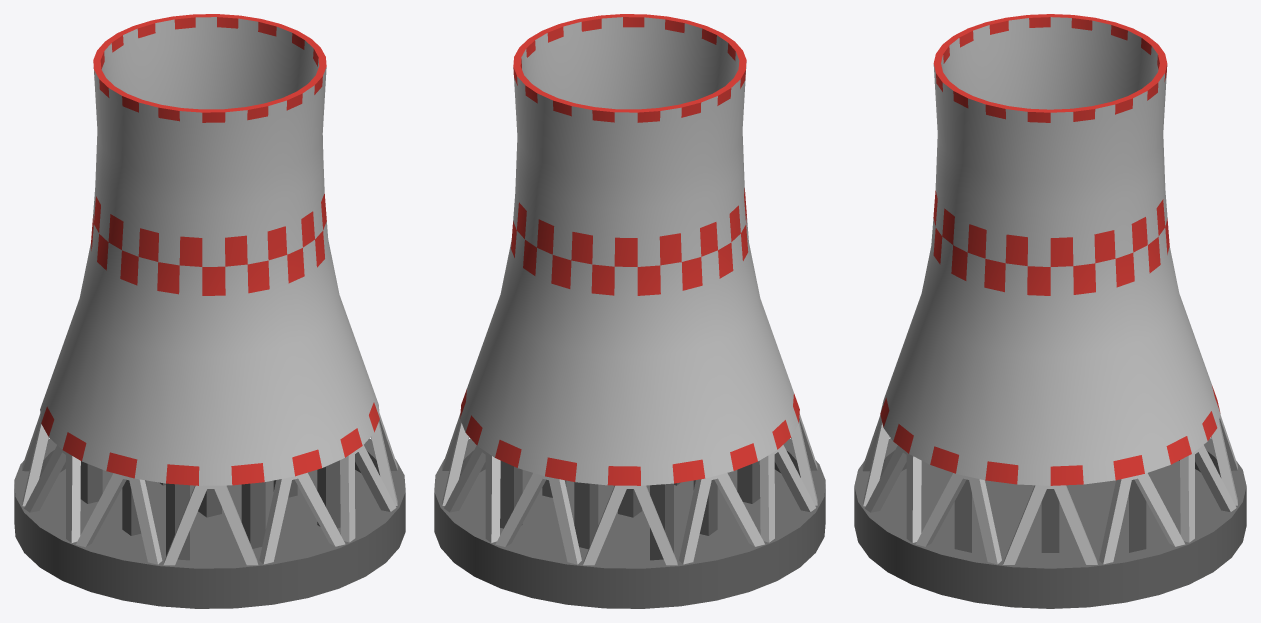
File: cooling_tower.fbx
3 views of the same model, side by side, from view 1: azimuth 30°, elevation 25°; view 2: azimuth 150°, elevation 25°; view 3: azimuth 270°, elevation 25° (orthographic).
Visible parts, largest first — view 1: Tower, Pool, Grid; view 2: Tower, Pool, Grid; view 3: Tower, Pool, Grid.
Boxes of the visible parts, x1,y1,x2,y2 form: Tower: [22, 14, 397, 565]; Pool: [14, 438, 405, 608]; Grid: [80, 460, 340, 560]; Tower: [442, 14, 817, 565]; Pool: [434, 438, 825, 608]; Grid: [500, 461, 760, 560]; Tower: [862, 14, 1237, 564]; Pool: [854, 438, 1246, 608]; Grid: [954, 479, 1146, 552].
Size of the model in its own units: 254 by 330 by 254.
